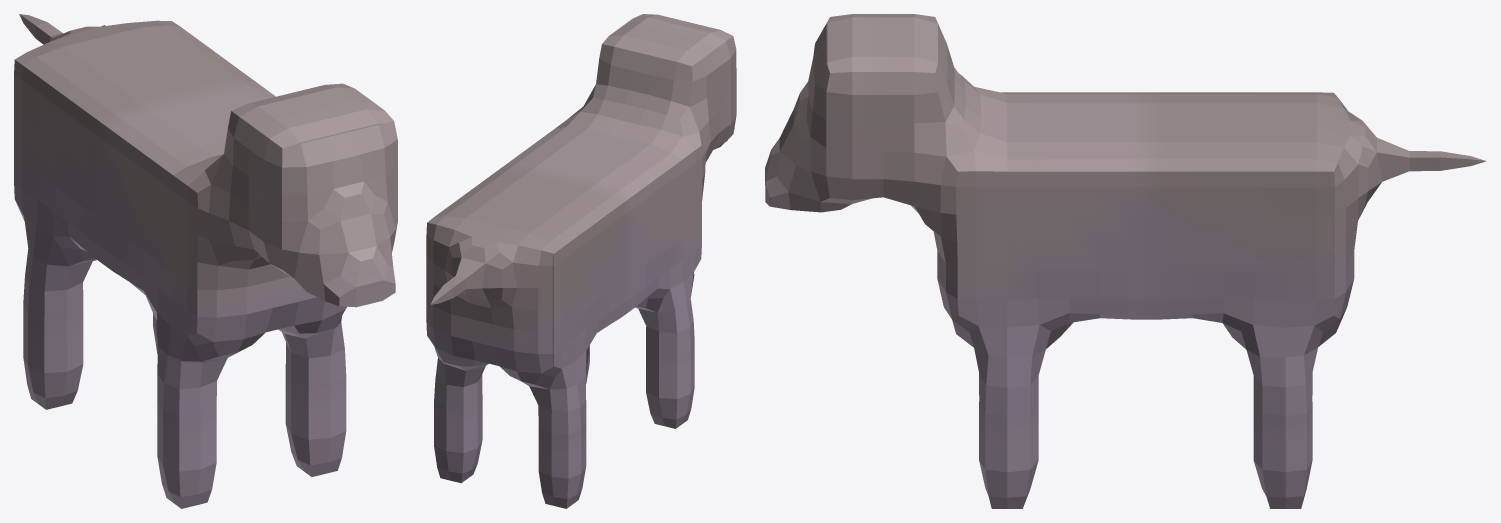
Rendered from nineTailFoxSummon.glb.
The picture shows the model from 3 angles, left to right: view 1: azimuth 30°, elevation 25°; view 2: azimuth 150°, elevation 25°; view 3: azimuth 270°, elevation 25°; orthographic projection. The views are drawn at different scales.
Visible parts, largest first — view 1: geometry_0; view 2: geometry_0; view 3: geometry_0.
Part boxes in pixels (box(x1,y1,x2,y2)): geometry_0: box(14, 14, 397, 508); geometry_0: box(426, 14, 736, 508); geometry_0: box(765, 14, 1486, 508).
Size of the model in its own units: 0.4437 by 1 by 1.51.
1 material, 1 textured.
